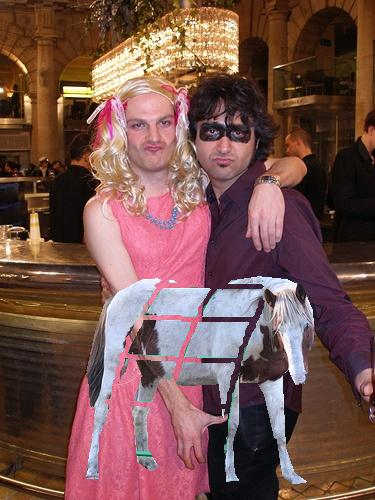tampered: (87, 277, 314, 484)
